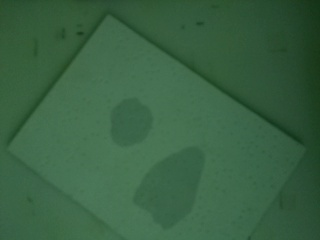Water_detected: (150, 153, 194, 214), (114, 100, 143, 137)
